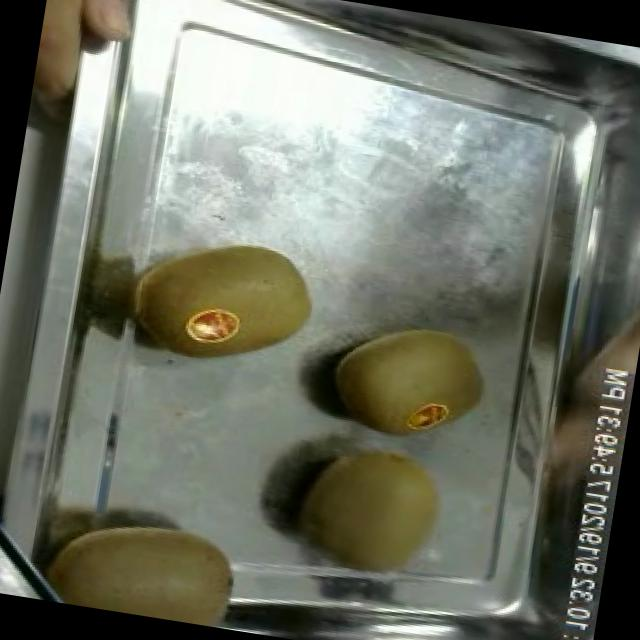Fruit: (117, 214, 327, 378), (274, 422, 462, 596), (25, 491, 255, 631), (315, 304, 504, 460)
